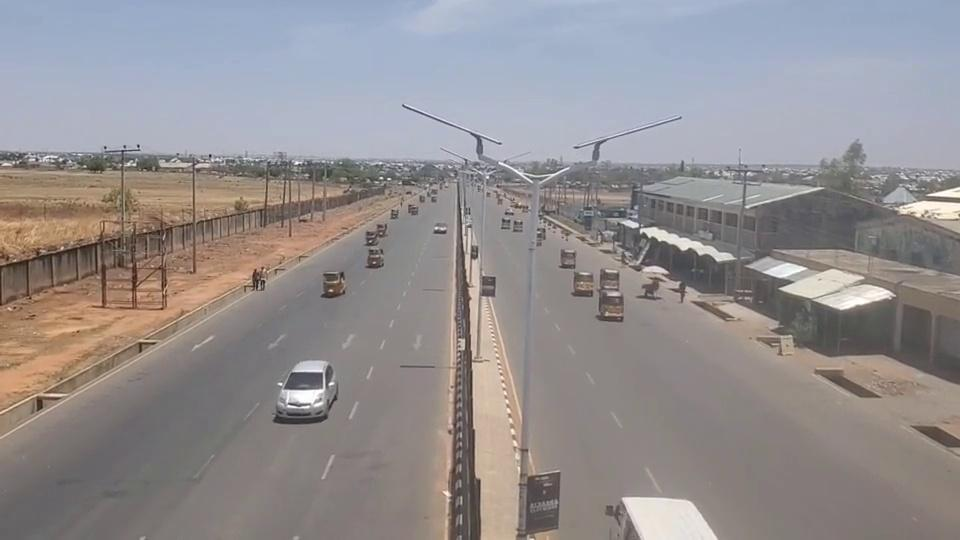bus: (601, 493, 719, 540)
car: (276, 359, 338, 419)
keke: (598, 289, 624, 321), (322, 270, 346, 296), (572, 270, 594, 296), (599, 267, 620, 291), (366, 248, 385, 268), (560, 248, 576, 268)
